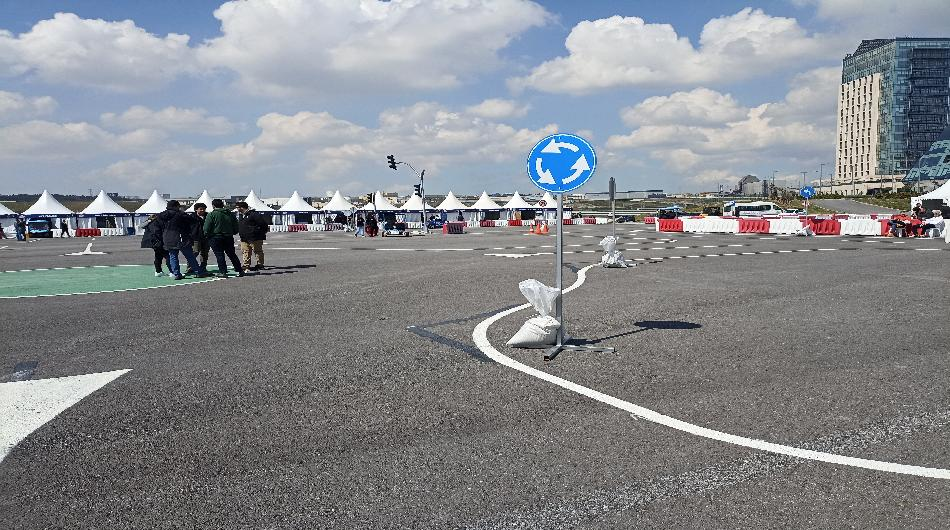ada: (527, 131, 598, 196)
